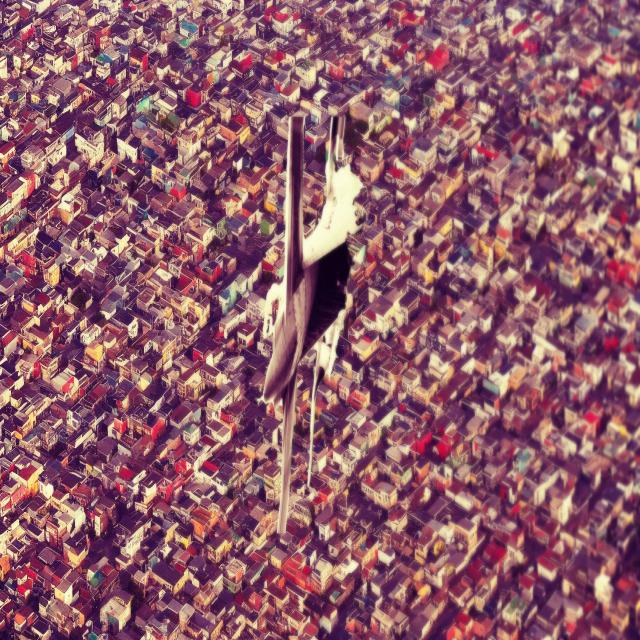airplane: (259, 110, 365, 536)
